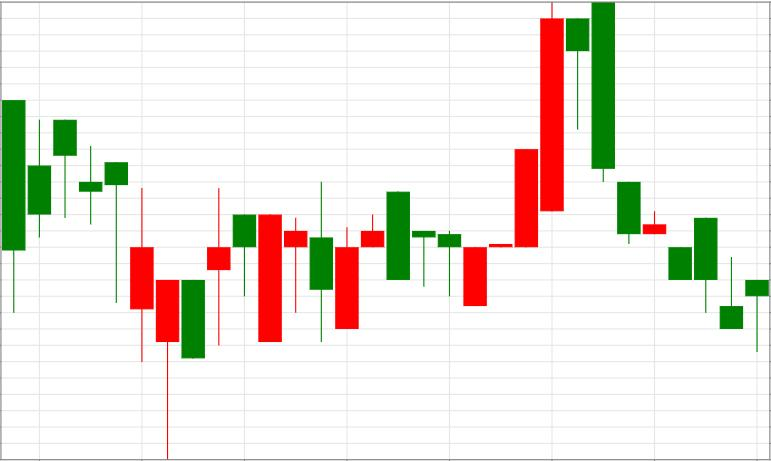hanging_man_fall: (464, 3, 589, 306)
